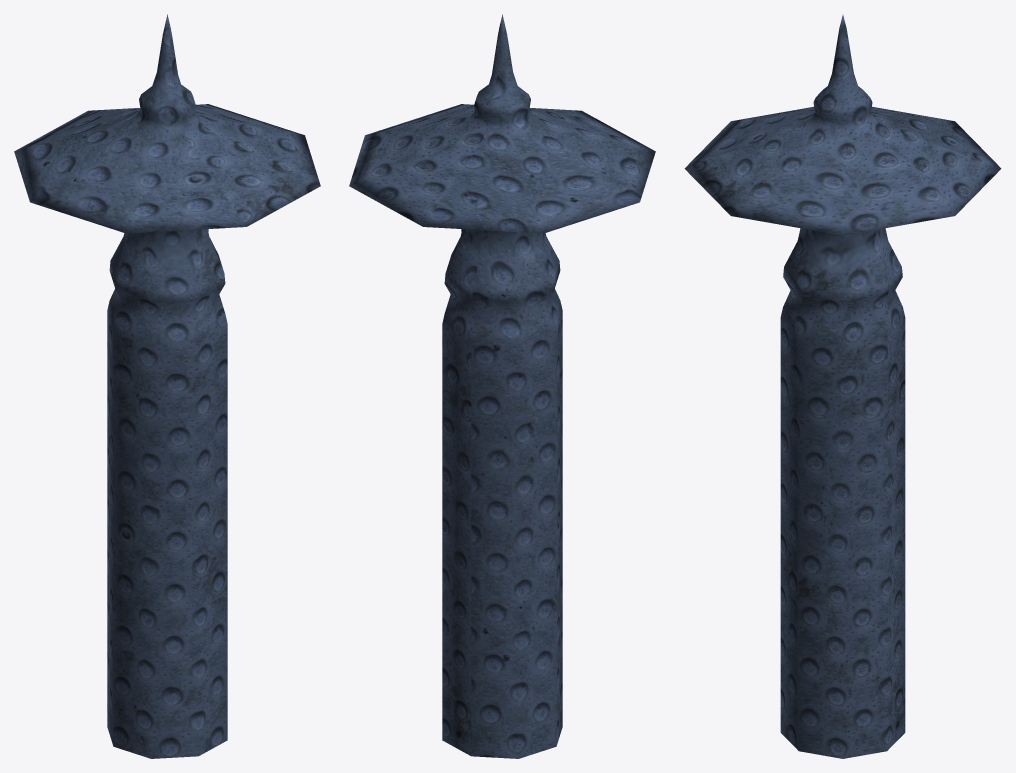
File: TruDen.fbx
3 renders of one model, left to right at view 1: azimuth 30°, elevation 25°; view 2: azimuth 150°, elevation 25°; view 3: azimuth 270°, elevation 25°, orthographic.
Parts seen in each view (by area): view 1: Tru_1:Group2; view 2: Tru_1:Group2; view 3: Tru_1:Group2.
Boxes of the visible parts, x1=… form: Tru_1:Group2: x1=14, y1=14, x2=320, y2=758; Tru_1:Group2: x1=349, y1=14, x2=655, y2=758; Tru_1:Group2: x1=684, y1=15, x2=1001, y2=758.
Bounding box in the file's own units: 2.05 × 5.12 × 2.05.
